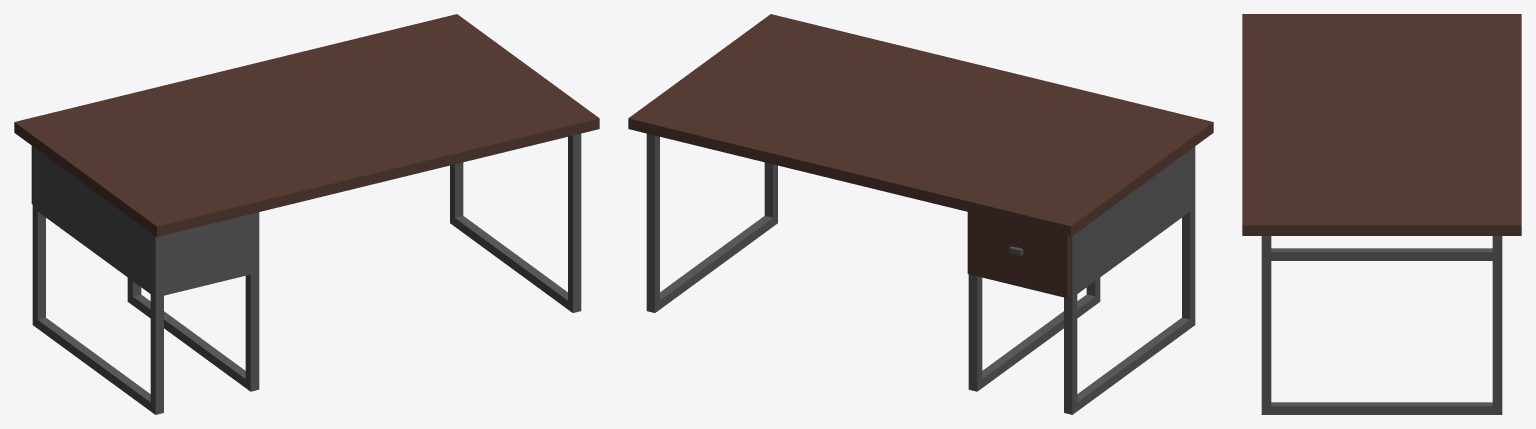
The model's file is Mesa_de_escritorio.fbx.
3 renders of one model, left to right at view 1: azimuth 30°, elevation 25°; view 2: azimuth 150°, elevation 25°; view 3: azimuth 270°, elevation 25°, orthographic. The views are drawn at different scales.
Parts seen in each view (by area): view 1: Mesa, Suporte; view 2: Mesa, Suporte, Gaveta; view 3: Mesa, Suporte.
Part boxes in pixels (left/top/right/bottom): Mesa: left=14, top=14, right=599, bottom=236; Suporte: left=32, top=133, right=581, bottom=414; Mesa: left=628, top=14, right=1213, bottom=236; Suporte: left=646, top=133, right=1195, bottom=414; Gaveta: left=967, top=212, right=1069, bottom=297; Mesa: left=1242, top=14, right=1521, bottom=235; Suporte: left=1261, top=236, right=1502, bottom=414.
Size of the model in its own units: 5200 by 2219 by 2900.
